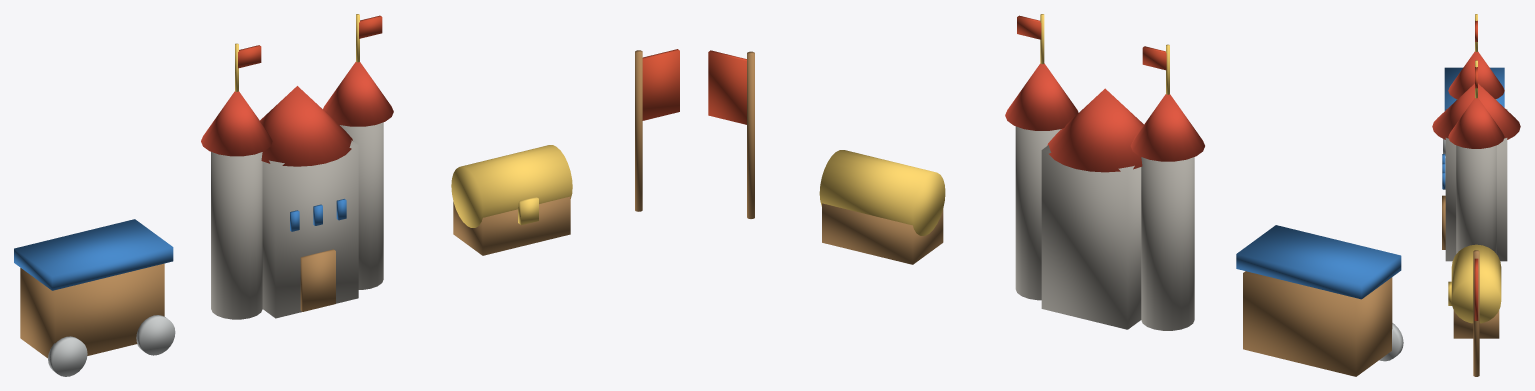
The model's file is kurczoker-map-props.glb.
The picture shows the model from 3 angles, left to right: view 1: azimuth 30°, elevation 25°; view 2: azimuth 150°, elevation 25°; view 3: azimuth 270°, elevation 25°; orthographic projection. The views are drawn at different scales.
Visible parts, largest first — view 1: castle_keep, shop_wagon, castle_tower_-0.62, shop_awning, treasure_chest_lid, castle_roof_keep, castle_tower_0.62, treasure_chest_base, castle_roof_-0.62, castle_roof_0.62, banner_cloth, castle_gate (+3 smaller); view 2: castle_keep, shop_wagon, castle_tower_-0.62, shop_awning, treasure_chest_lid, castle_roof_keep, castle_tower_0.62, treasure_chest_base, castle_roof_-0.62, castle_roof_0.62, banner_cloth, banner_pole; view 3: castle_tower_0.62, treasure_chest_lid, castle_keep, castle_roof_keep, castle_roof_0.62, castle_roof_-0.62, treasure_chest_base, shop_awning, banner_pole, banner_cloth, castle_gate, treasure_lock.
Boxes of the visible parts, box(x1,y1,x2,y2) form: castle_keep: box(262, 140, 358, 318); shop_wagon: box(20, 263, 164, 358); castle_tower_-0.62: box(211, 152, 262, 319); shop_awning: box(14, 219, 173, 290); treasure_chest_lid: box(451, 145, 572, 227); castle_roof_keep: box(260, 86, 352, 166); castle_tower_0.62: box(340, 122, 383, 289); treasure_chest_base: box(453, 196, 570, 255); castle_roof_-0.62: box(201, 91, 272, 156); castle_roof_0.62: box(323, 62, 393, 126); banner_cloth: box(642, 49, 679, 120); castle_gate: box(300, 249, 335, 311); castle_keep: box(1041, 145, 1141, 329); shop_wagon: box(1243, 271, 1392, 376); castle_tower_-0.62: box(1141, 157, 1194, 330); shop_awning: box(1236, 225, 1401, 299); treasure_chest_lid: box(819, 150, 945, 235); castle_roof_keep: box(1047, 88, 1143, 172); castle_tower_0.62: box(1015, 126, 1061, 300); treasure_chest_base: box(822, 203, 943, 264); castle_roof_-0.62: box(1130, 94, 1204, 161); castle_roof_0.62: box(1005, 63, 1078, 130); banner_cloth: box(708, 50, 746, 124); banner_pole: box(747, 51, 754, 218); castle_tower_0.62: box(1456, 145, 1496, 253); treasure_chest_lid: box(1451, 244, 1501, 323); castle_keep: box(1445, 109, 1507, 261); castle_roof_keep: box(1432, 83, 1520, 139); castle_roof_0.62: box(1448, 98, 1504, 148); castle_roof_-0.62: box(1448, 51, 1504, 99); treasure_chest_base: box(1453, 310, 1499, 338); shop_awning: box(1444, 67, 1504, 110); banner_pole: box(1473, 250, 1479, 376); banner_cloth: box(1474, 258, 1478, 320); castle_gate: box(1442, 195, 1445, 249); treasure_lock: box(1448, 281, 1452, 305).
Size of the model in its own units: 6.64 by 2.65 by 1.
